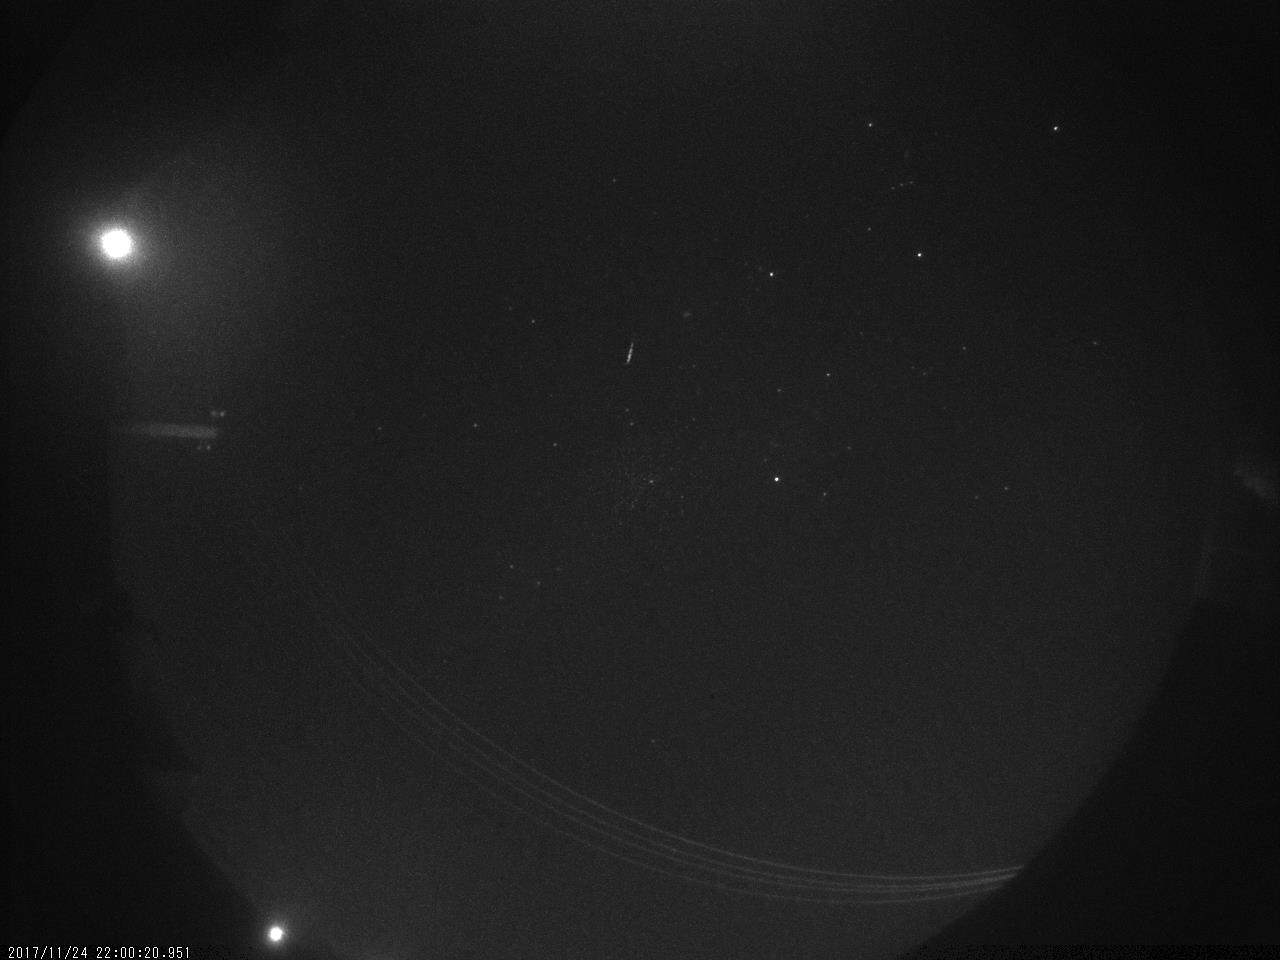meteor: (597, 323, 674, 372)
